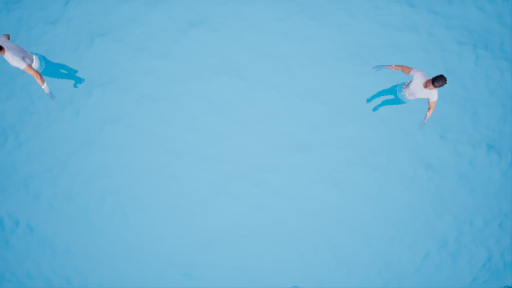person: (360, 61, 447, 132), (1, 30, 92, 97)
